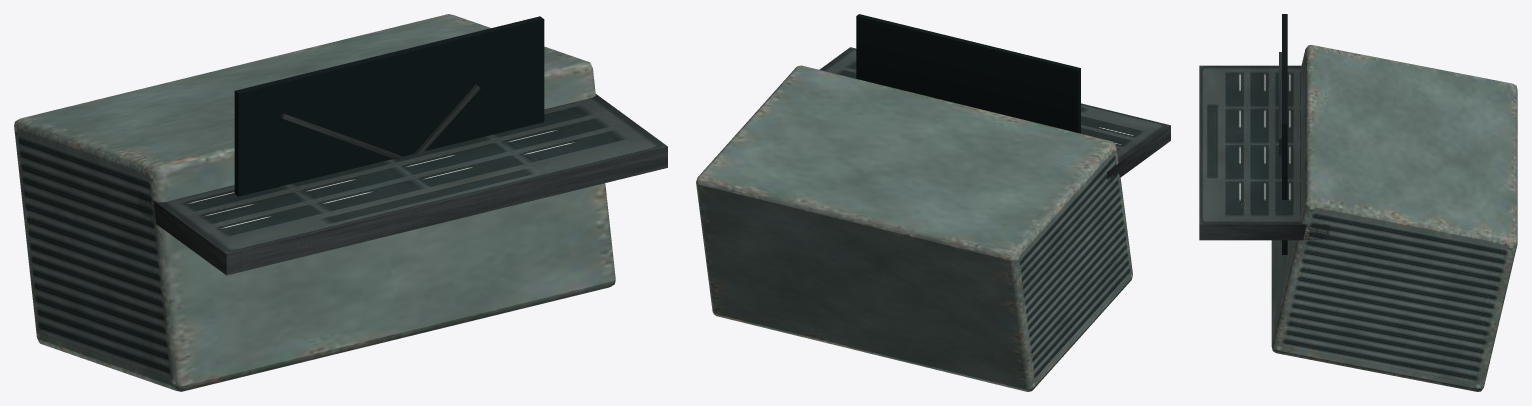
The model's file is toppled_console.glb.
3 renders of one model, left to right at view 1: azimuth 30°, elevation 25°; view 2: azimuth 150°, elevation 25°; view 3: azimuth 270°, elevation 25°, orthographic. The views are drawn at different scales.
Parts seen in each view (by area): view 1: ToppledConsole; view 2: ToppledConsole; view 3: ToppledConsole.
Boxes of the visible parts, x1,y1,x2,y2 form: ToppledConsole: [14, 14, 667, 391]; ToppledConsole: [696, 14, 1170, 391]; ToppledConsole: [1199, 14, 1517, 391].
Size of the model in its own units: 1.3 by 0.9373 by 1.1.
Materials: 2 (1 with a texture image).
